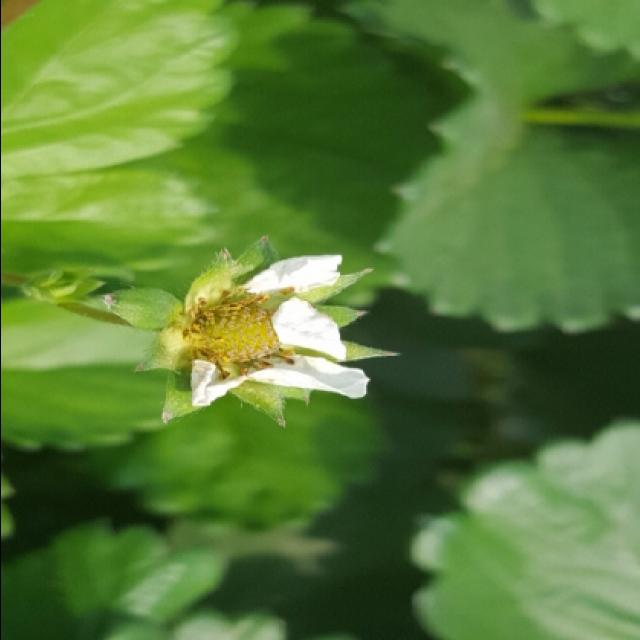Blossom Blight: (180, 284, 299, 384)
